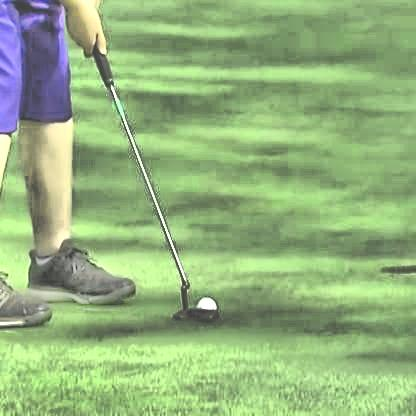golfball: (197, 294, 216, 310)
